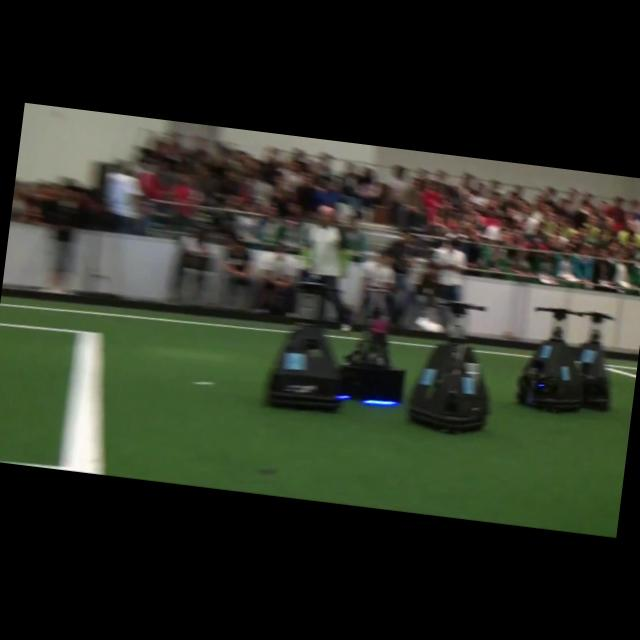robot: (408, 300, 487, 431), (516, 306, 585, 410), (265, 324, 340, 411), (340, 312, 404, 403), (578, 311, 612, 410)
